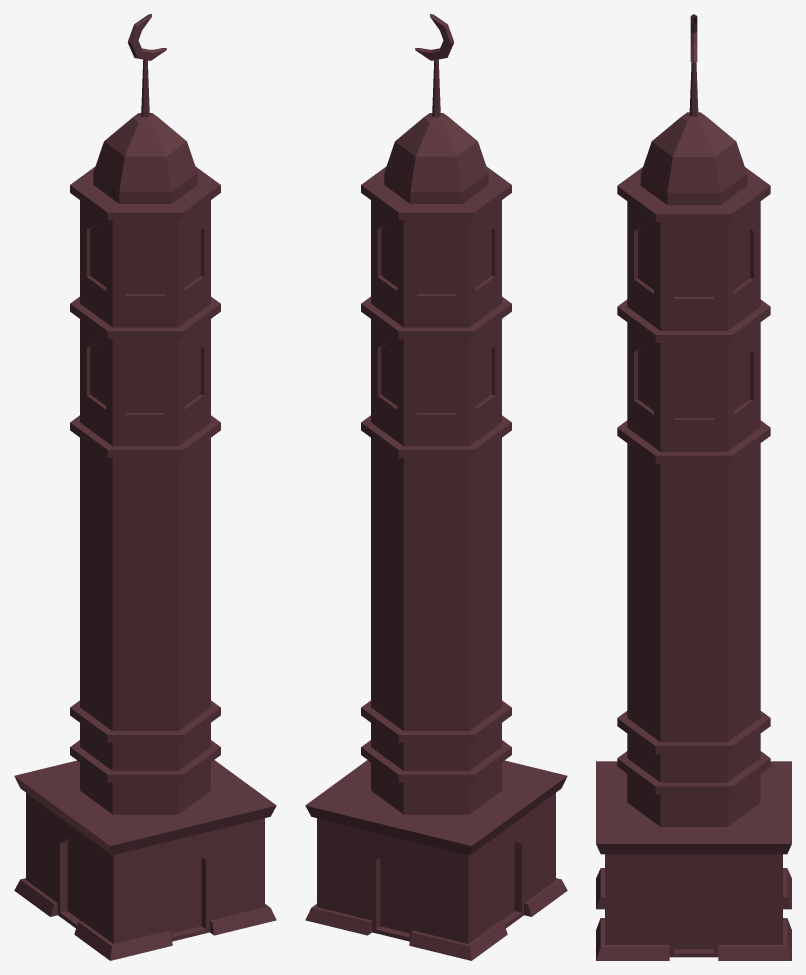
File: mosque-tower.fbx
The picture shows the model from 3 angles, left to right: view 1: azimuth 30°, elevation 25°; view 2: azimuth 150°, elevation 25°; view 3: azimuth 270°, elevation 25°; orthographic projection.
Parts seen in each view (by area): view 1: mosque-tower; view 2: mosque-tower; view 3: mosque-tower.
Part boxes in pixels (<box>): mosque-tower: <box>14,14,276,960</box>; mosque-tower: <box>305,14,567,960</box>; mosque-tower: <box>596,14,791,960</box>.
Size of the model in its own units: 4.4 by 22.48 by 4.4.
